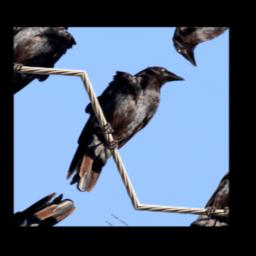Crow: (37, 45, 188, 197)
